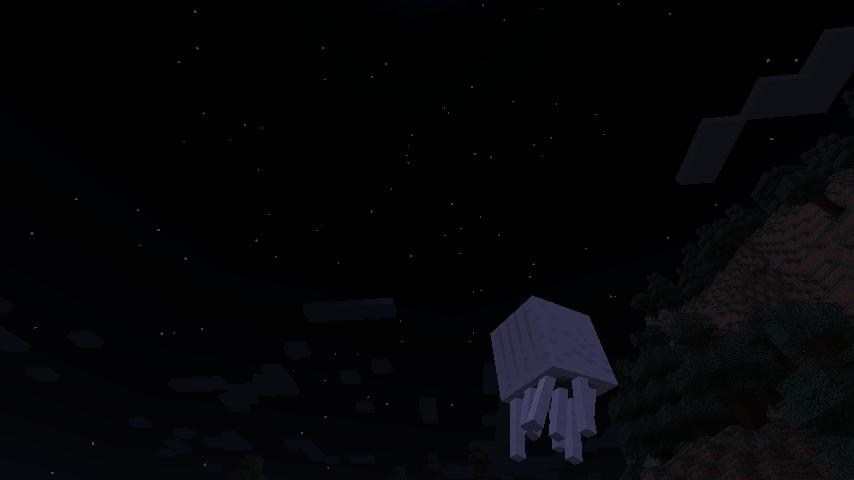ghast: (486, 293, 624, 466)
